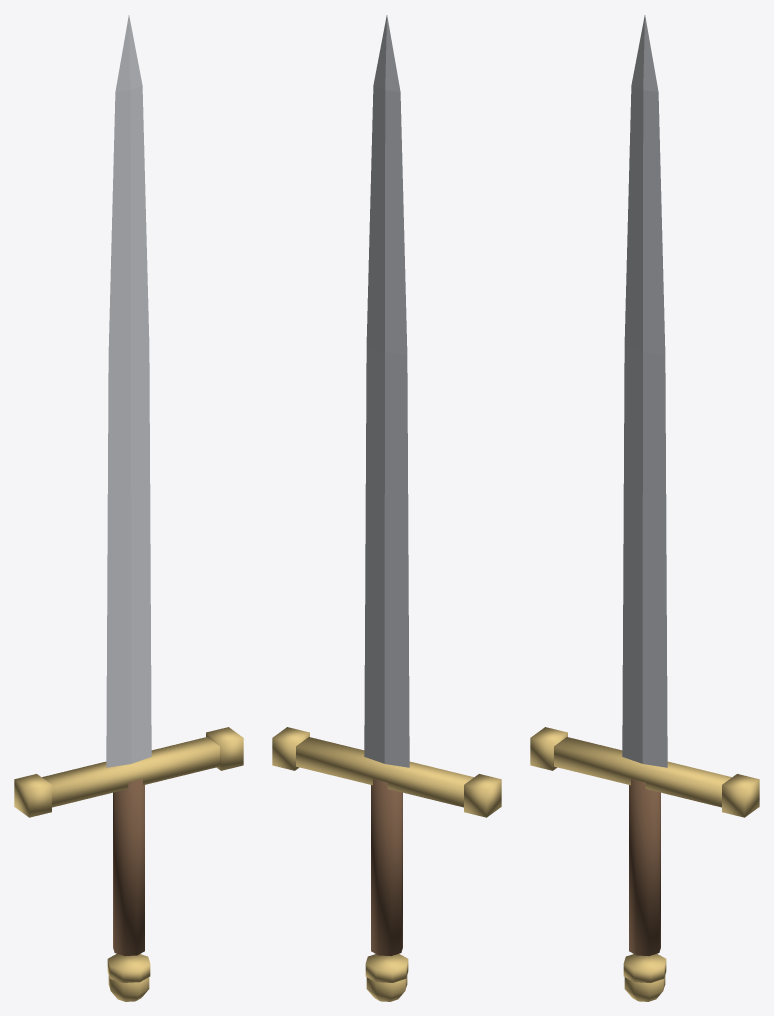
Rendered from arme_epee_longue.glb.
3 views of the same model, side by side, from view 1: azimuth 30°, elevation 25°; view 2: azimuth 150°, elevation 25°; view 3: azimuth 330°, elevation 25° (orthographic).
Visible parts, largest first — view 1: epee_longue_lame, epee_longue_garde, epee_longue_poignee; view 2: epee_longue_lame, epee_longue_garde, epee_longue_poignee; view 3: epee_longue_lame, epee_longue_garde, epee_longue_poignee.
Boxes of the visible parts, bbox=[...] form: epee_longue_lame: bbox=[106, 15, 151, 767]; epee_longue_garde: bbox=[14, 727, 243, 1001]; epee_longue_poignee: bbox=[113, 779, 144, 955]; epee_longue_lame: bbox=[364, 15, 409, 767]; epee_longue_garde: bbox=[272, 727, 501, 1001]; epee_longue_poignee: bbox=[371, 779, 402, 955]; epee_longue_lame: bbox=[622, 15, 667, 767]; epee_longue_garde: bbox=[530, 727, 759, 1001]; epee_longue_poignee: bbox=[629, 779, 660, 955].
Bounding box in the file's own units: 0.246 × 1.08 × 0.044.
